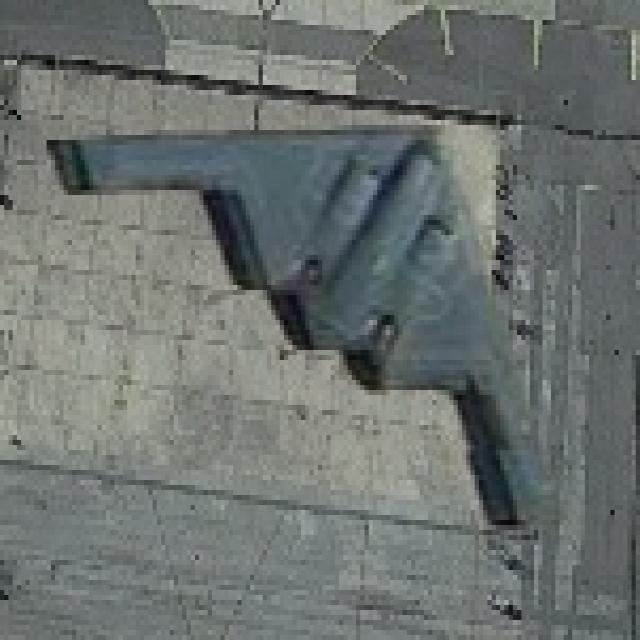B-2_TopDown: (42, 110, 556, 535)
